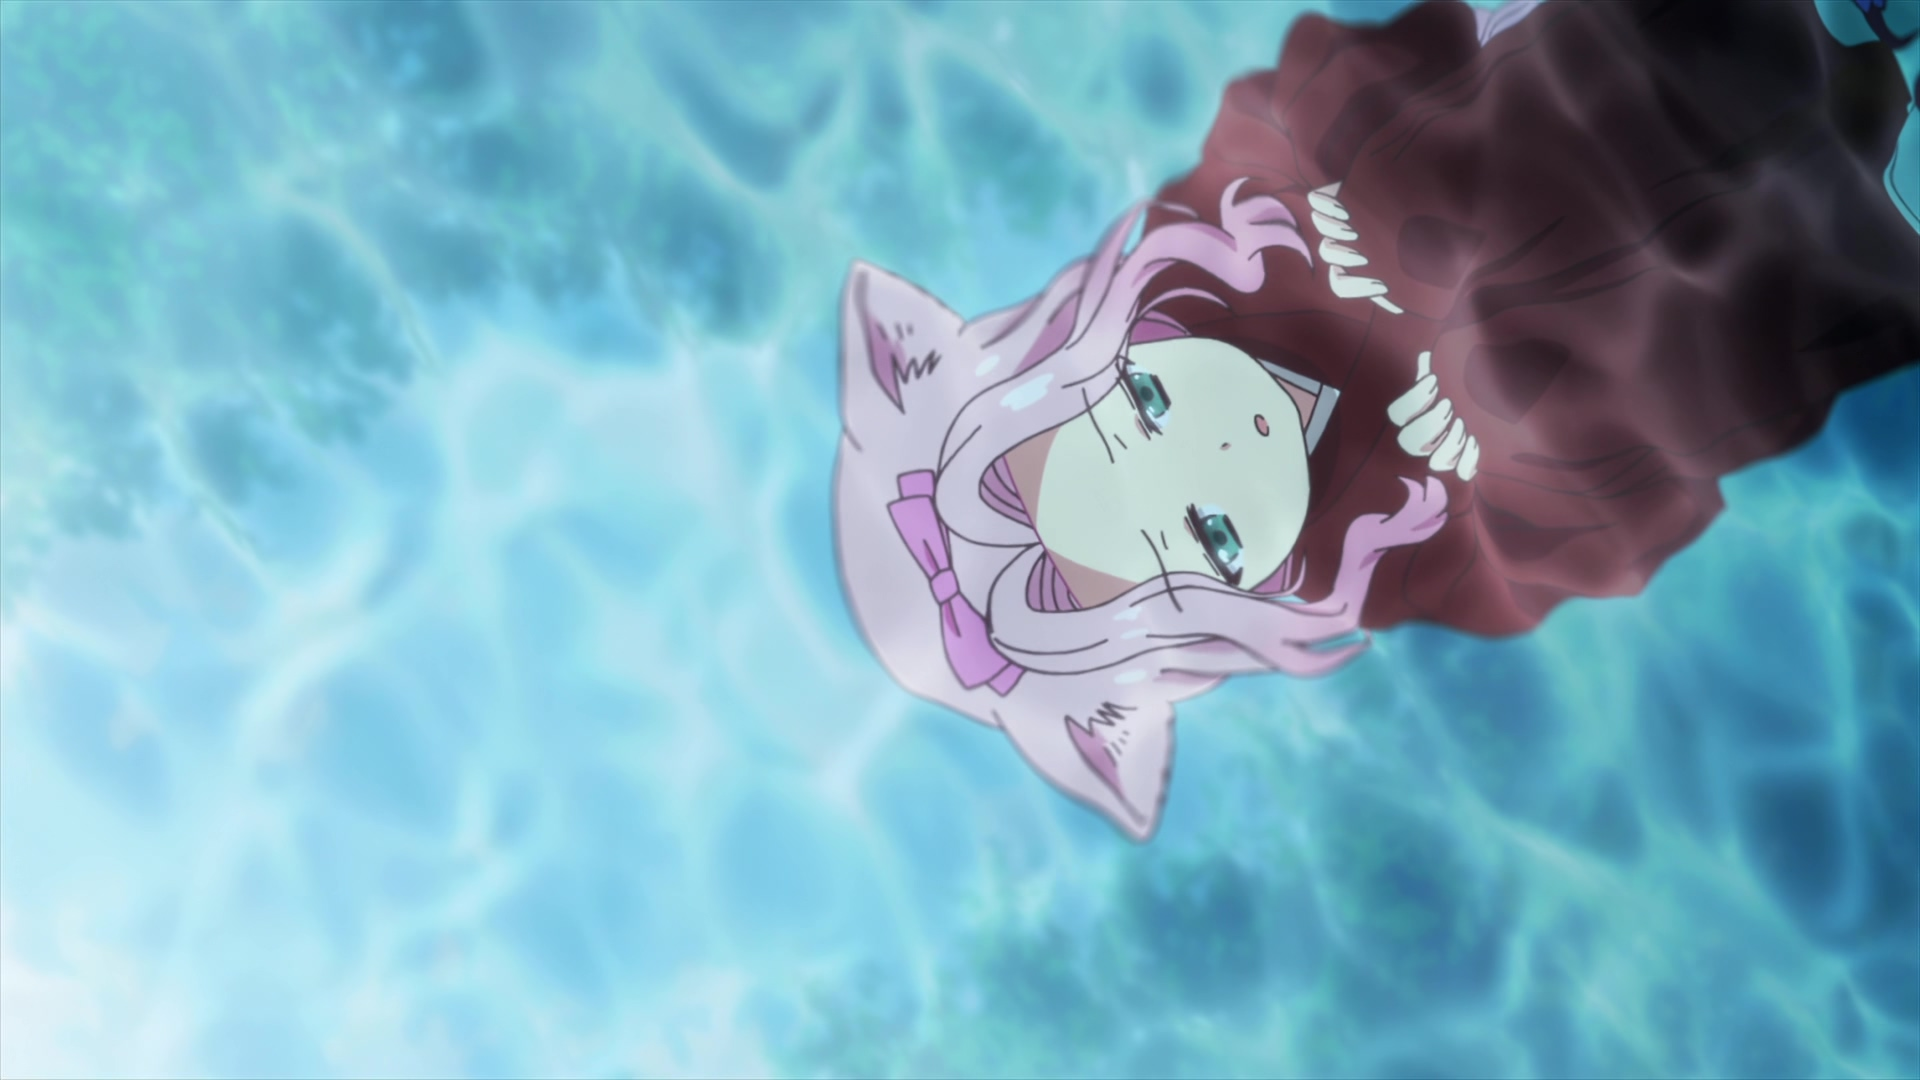莲: (828, 1, 1920, 849)
